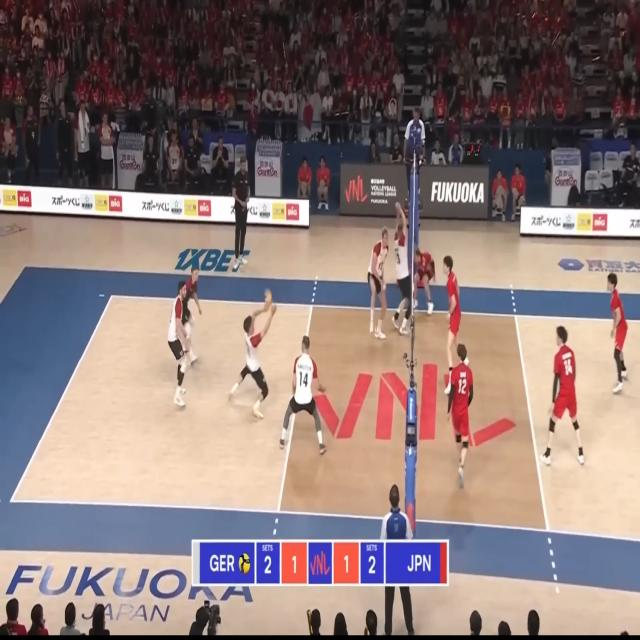ball: (264, 289, 272, 303)
